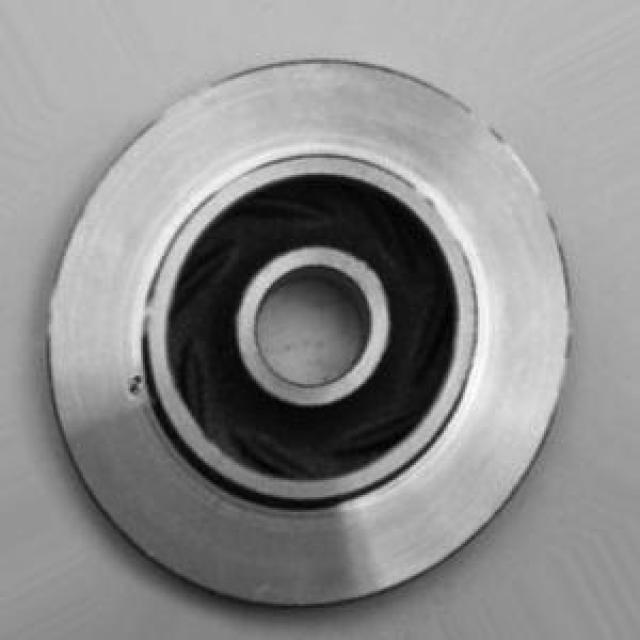Defect: (120, 360, 148, 407)
